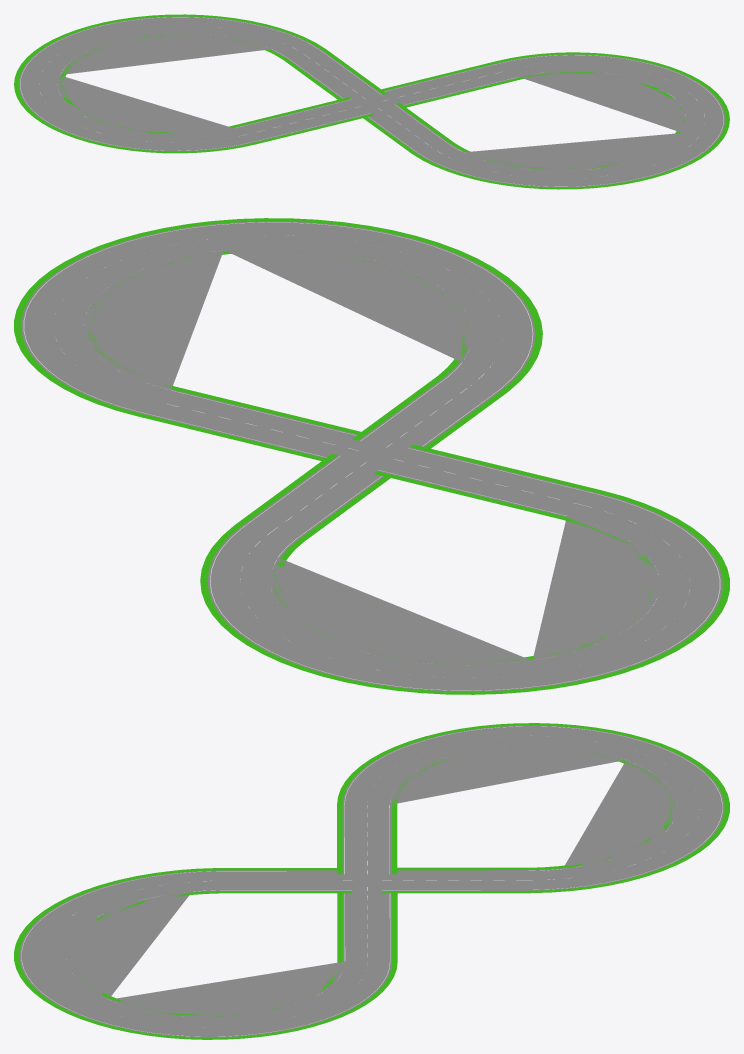
3 views of the same model, one above another, from view 1: azimuth 30°, elevation 25°; view 2: azimuth 150°, elevation 25°; view 3: azimuth 270°, elevation 25° (orthographic). The views are drawn at different scales.
Parts seen in each view (by area): view 1: road_clothoid_8, road_clothoid_9, road_straight_5, road_straight_7, road_straight_4, road_straight_6; view 2: road_clothoid_8, road_clothoid_9, road_straight_5, road_straight_7, road_straight_4, road_straight_6; view 3: road_clothoid_8, road_clothoid_9, road_straight_5, road_straight_7, road_straight_4, road_straight_6.
Boxes of the visible parts, left/top/right/bottom form: road_clothoid_8: left=14, top=14, right=327, bottom=153; road_clothoid_9: left=409, top=52, right=729, bottom=189; road_straight_5: left=377, top=61, right=521, bottom=107; road_straight_7: left=231, top=97, right=373, bottom=144; road_straight_4: left=285, top=50, right=386, bottom=101; road_straight_6: left=363, top=103, right=452, bottom=151; road_clothoid_8: left=200, top=490, right=729, bottom=694; road_clothoid_9: left=14, top=218, right=542, bottom=415; road_straight_5: left=137, top=387, right=368, bottom=460; road_straight_7: left=374, top=444, right=601, bottom=519; road_straight_4: left=237, top=454, right=390, bottom=540; road_straight_6: left=352, top=377, right=504, bottom=451; road_clothoid_8: left=337, top=723, right=729, bottom=893; road_clothoid_9: left=14, top=868, right=397, bottom=1039; road_straight_5: left=337, top=887, right=397, bottom=961; road_straight_7: left=337, top=805, right=397, bottom=874; road_straight_4: left=382, top=867, right=525, bottom=893; road_straight_6: left=225, top=868, right=352, bottom=893.
Bounding box in the file's own units: 19901 × 0.00789 × 19006.
